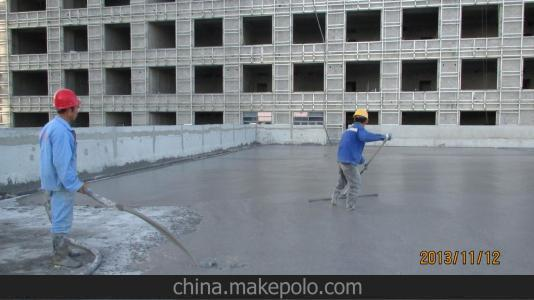helmet: (46, 81, 87, 116), (345, 104, 375, 124)
